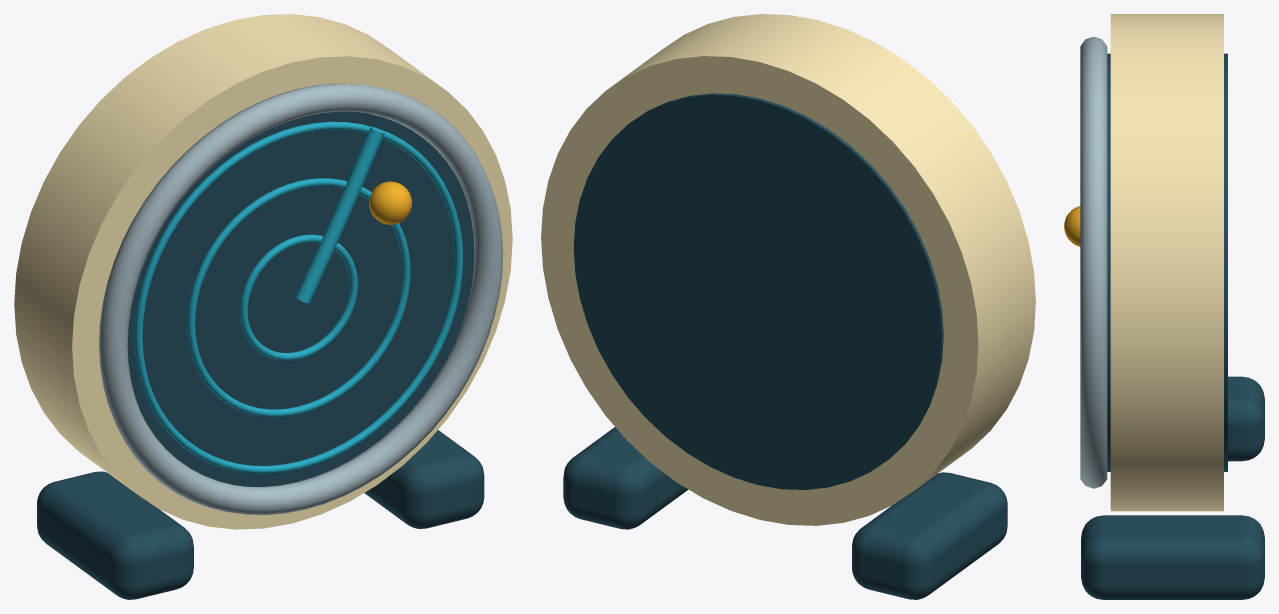
File: sonar.glb
The picture shows the model from 3 angles, left to right: view 1: azimuth 30°, elevation 25°; view 2: azimuth 150°, elevation 25°; view 3: azimuth 270°, elevation 25°; orthographic projection. The views are drawn at different scales.
Visible parts, largest first — view 1: sonar, sonar_sweep_124; view 2: sonar; view 3: sonar.
Part boxes in pixels (bbox=[...]): sonar: bbox=[14, 14, 512, 599]; sonar_sweep_124: bbox=[295, 127, 384, 303]; sonar: bbox=[541, 14, 1035, 599]; sonar: bbox=[1064, 14, 1264, 599].
Size of the model in its own units: 1.76 by 1.88 by 0.71.
